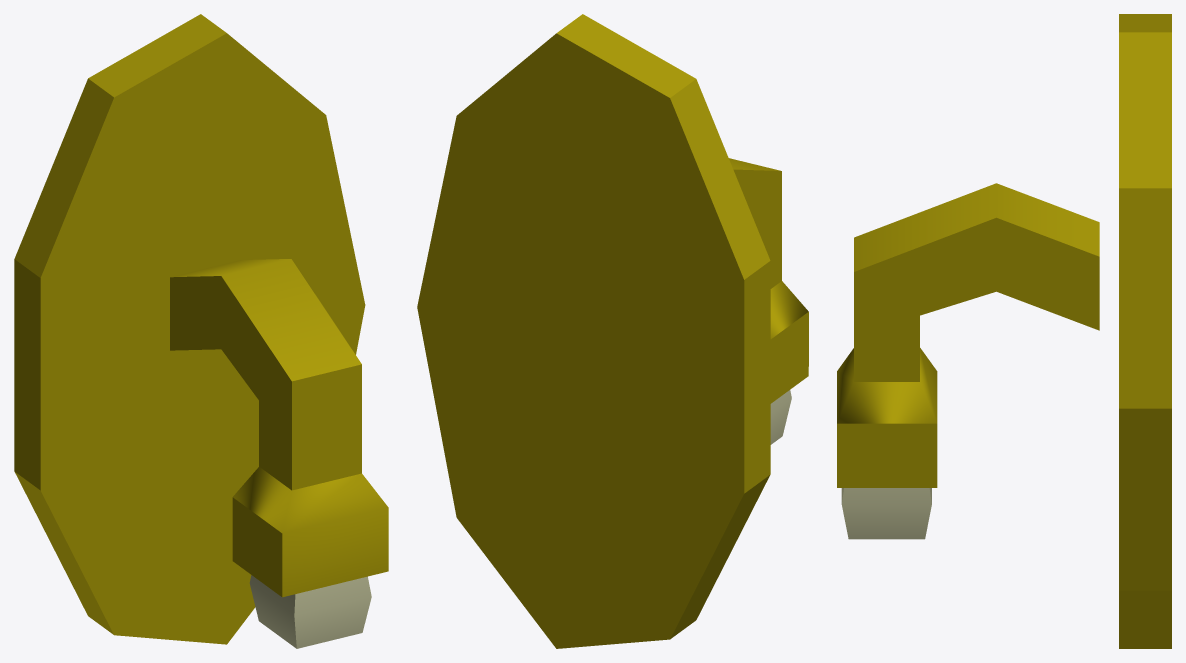
Rendered from WallLamp.fbx.
3 views of the same model, side by side, from view 1: azimuth 30°, elevation 25°; view 2: azimuth 150°, elevation 25°; view 3: azimuth 270°, elevation 25° (orthographic).
Parts seen in each view (by area): view 1: polySurface1; view 2: polySurface1; view 3: polySurface1.
Boxes of the visible parts, x1,y1,x2,y2 form: polySurface1: [14, 14, 388, 648]; polySurface1: [417, 14, 808, 648]; polySurface1: [837, 14, 1171, 648].
Size of the model in its own units: 1.33 by 2.39 by 1.18.
